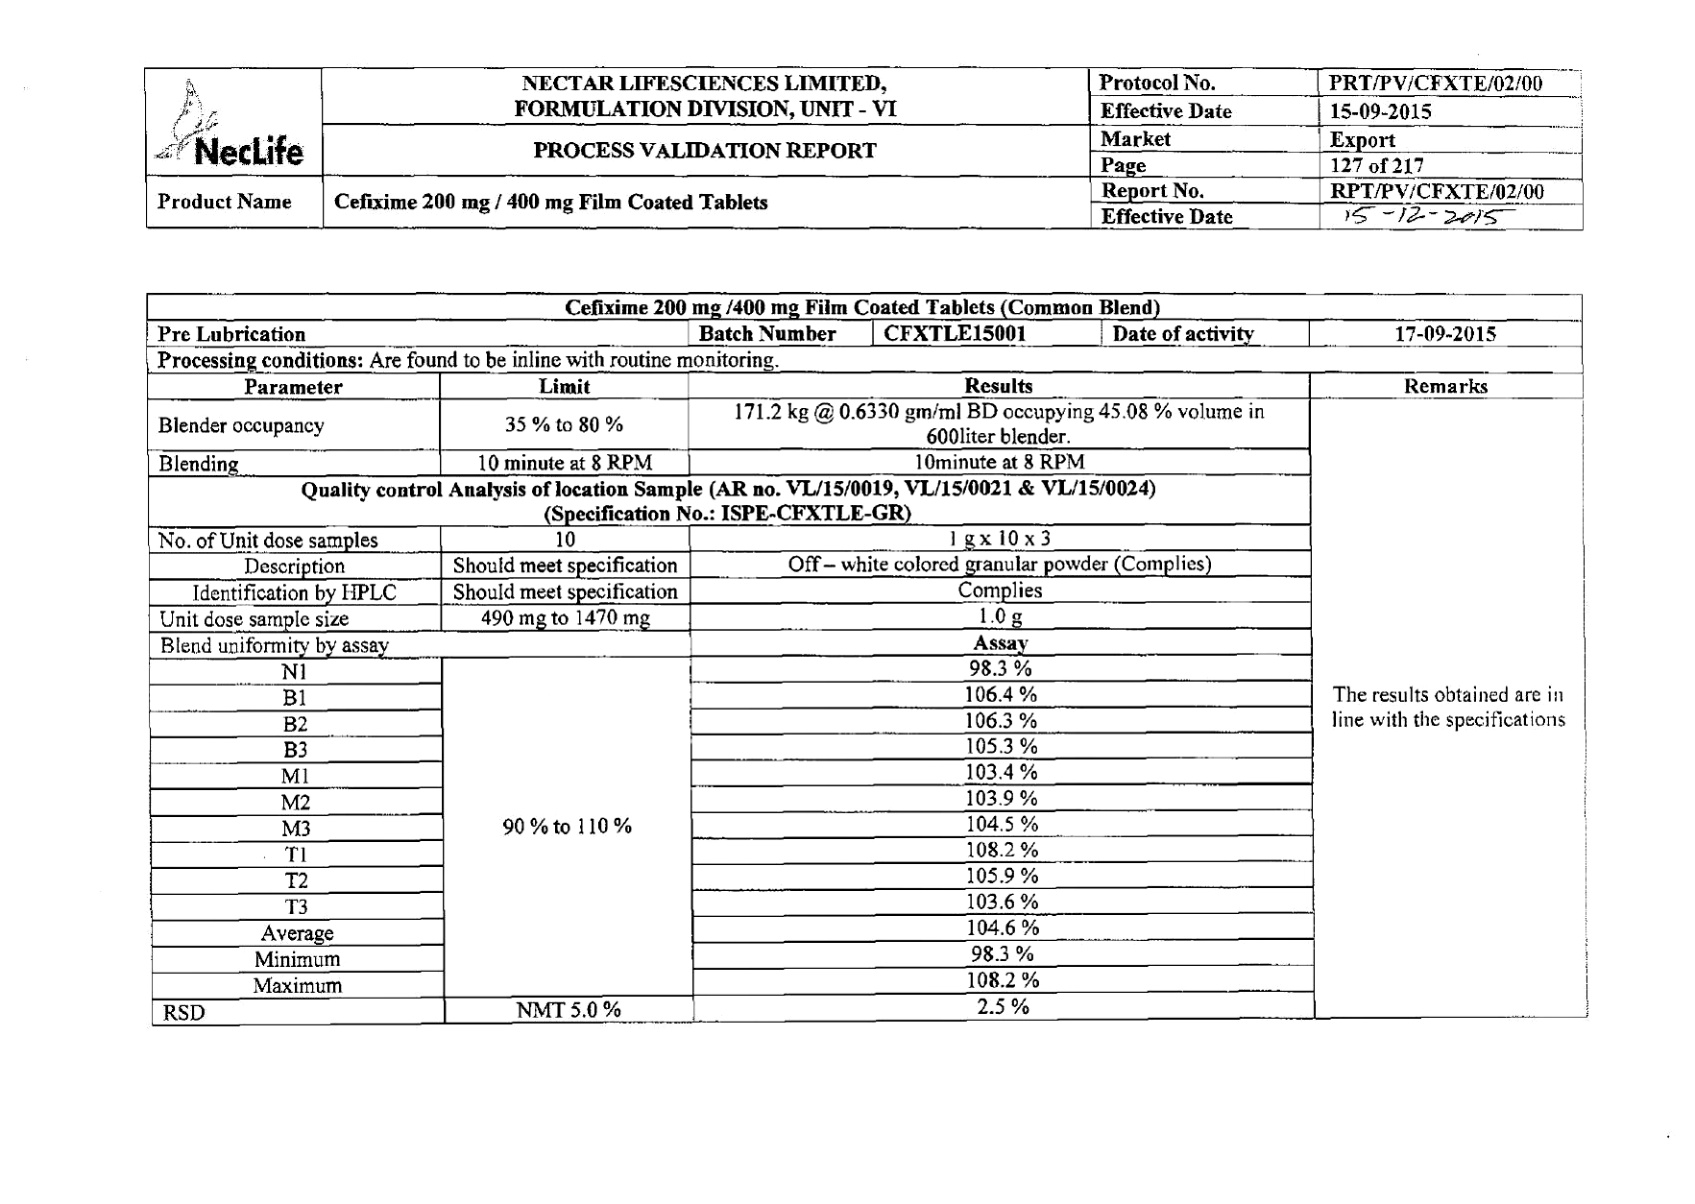merged_cells: (146, 292, 1589, 1019), (143, 66, 1584, 232)
